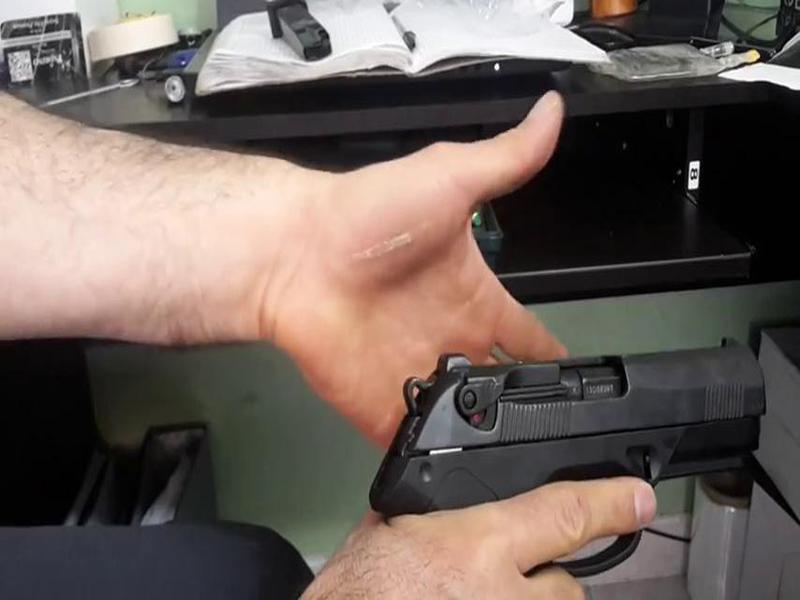Pistola: (347, 335, 787, 574)
